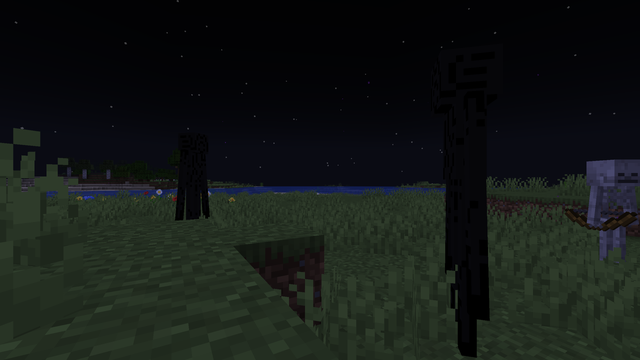endermens: (417, 26, 512, 357), (180, 128, 207, 216)
squelettes: (585, 159, 637, 269)
